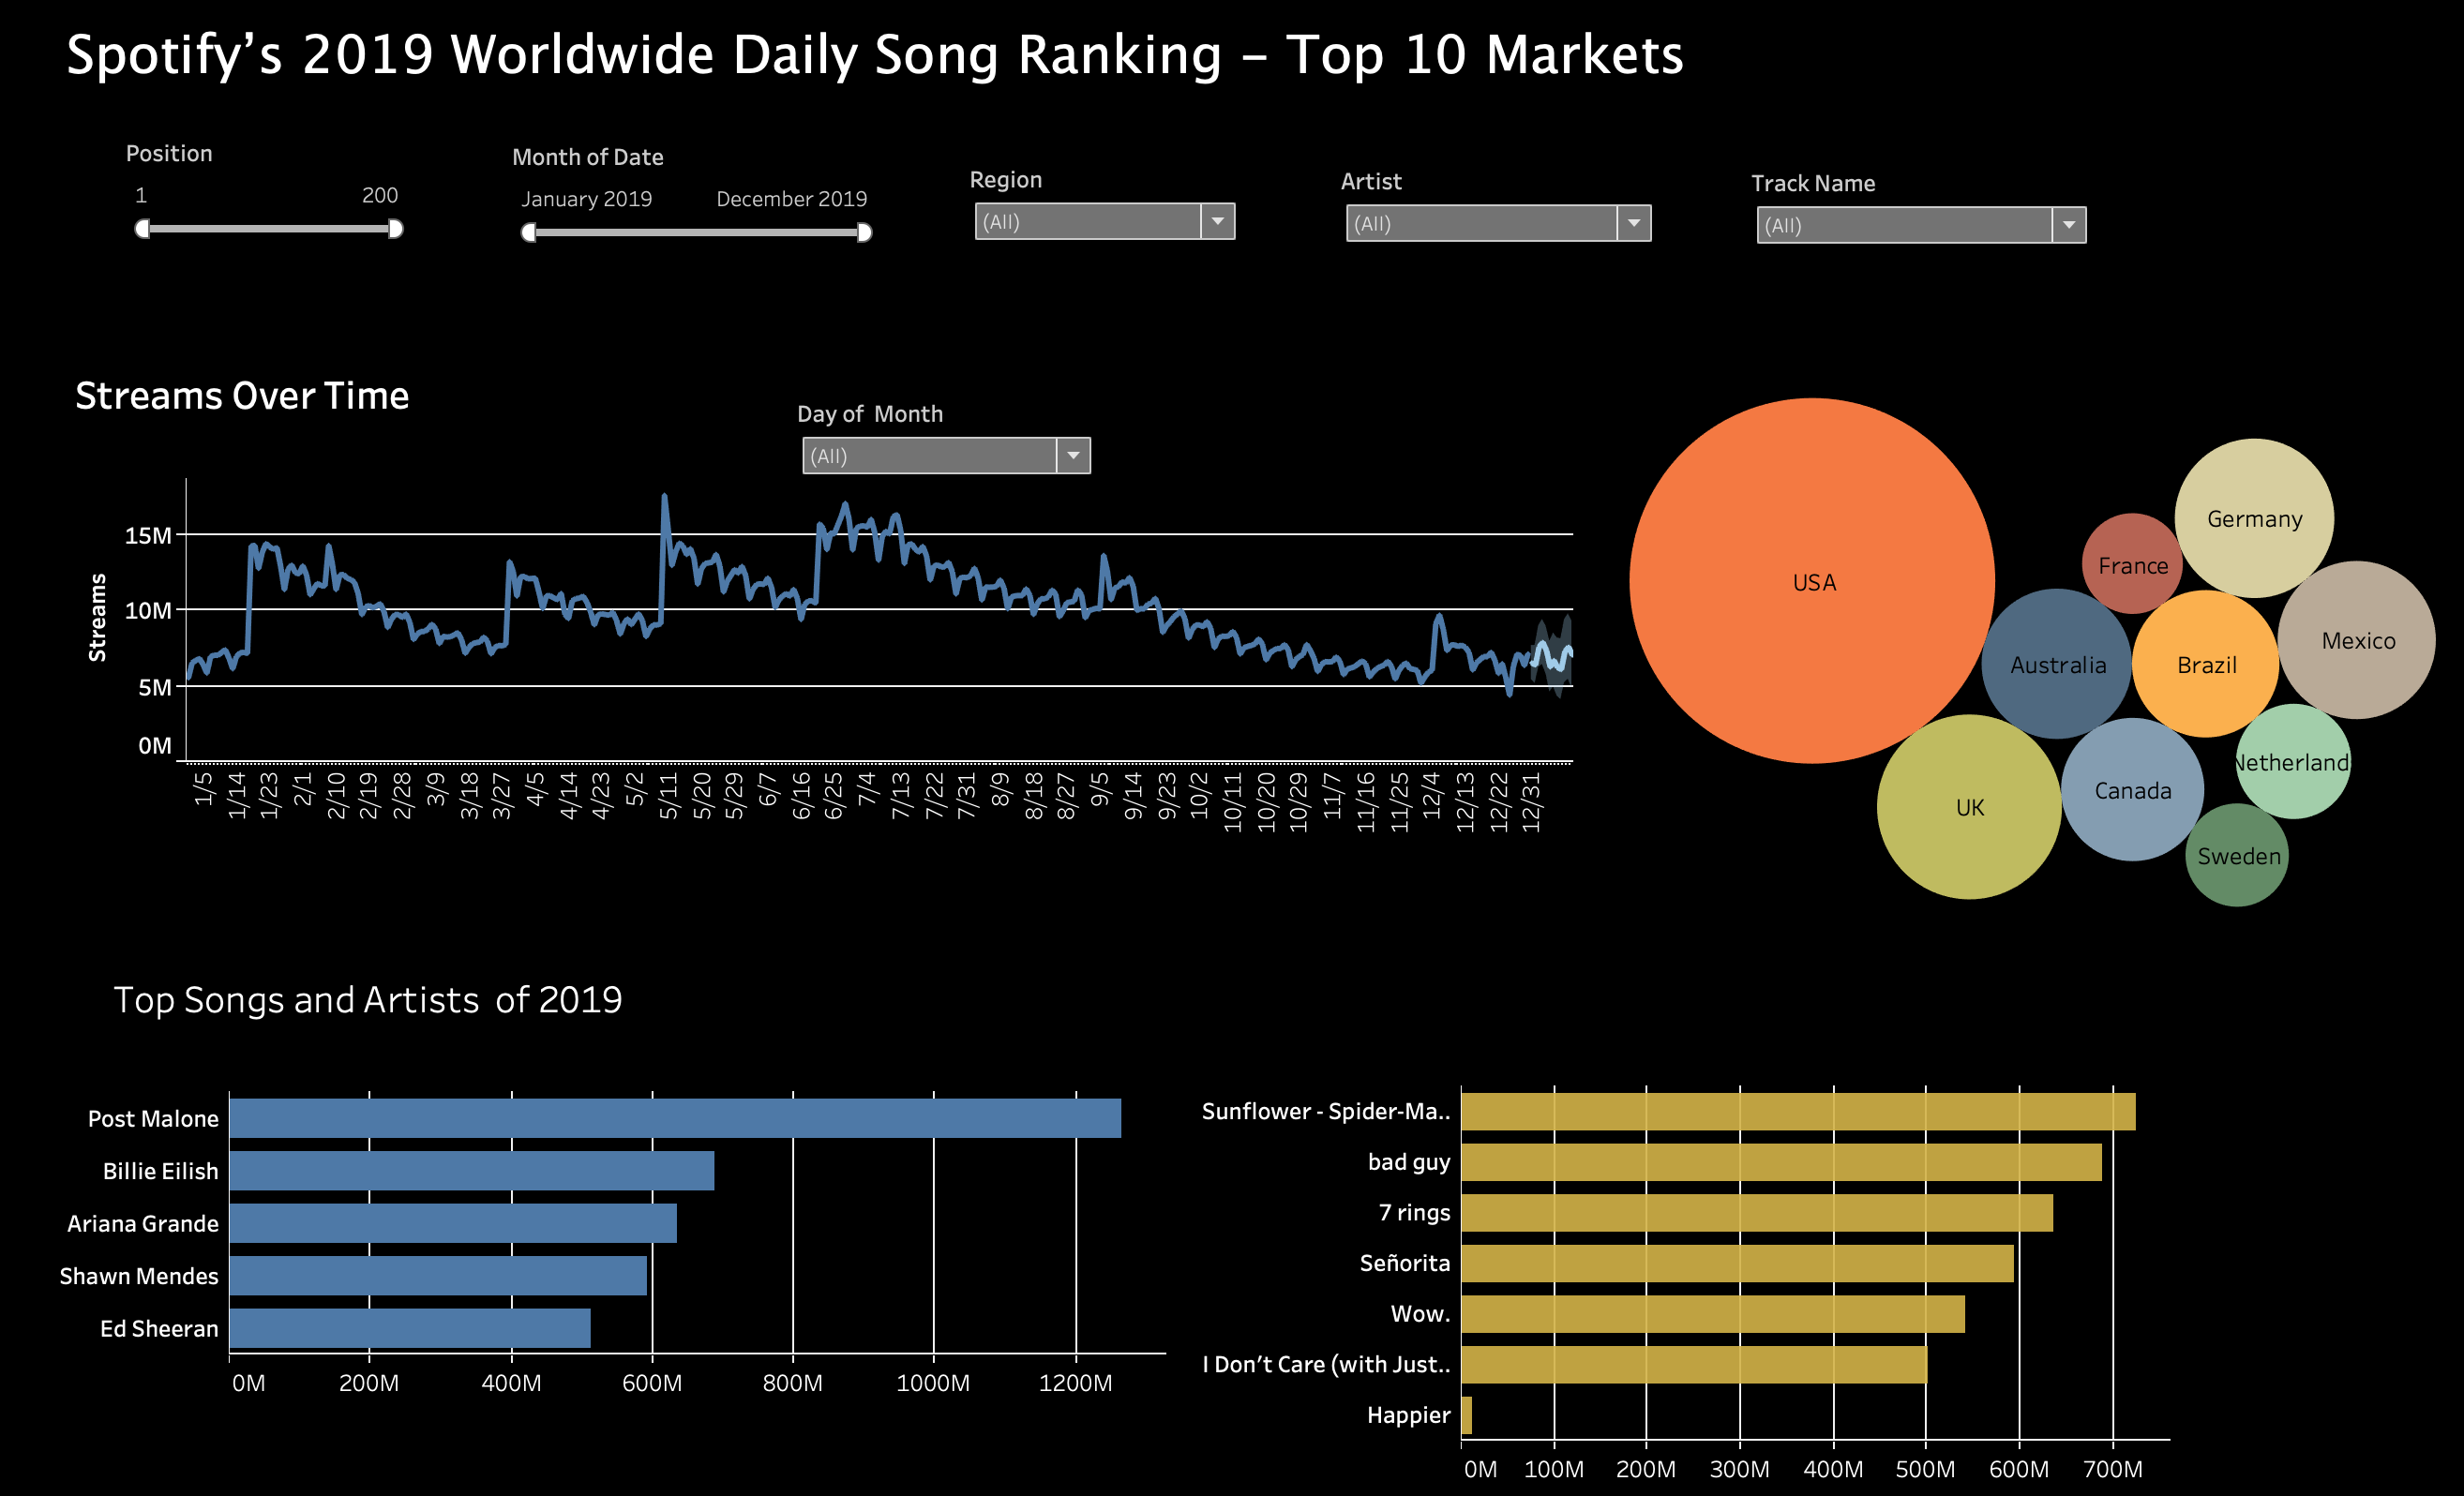

Layout of this report page (visuals, bound fields, positions):
{"tool":"tableau","page":{"name":"Dashboard 1 (2)","canvas":[1300,1600],"ordinal":1},"visuals":[{"type":"title","box":[8,8,1284,41]},{"type":"blank","box":[8,49,1284,1543]},{"type":"filter","title":"Songs ","param":"[federated.1a6lg4g165ijlx12t7h611j5lb3a].[tmn:date:qk]","box":[227,68,197,61]},{"type":"filter","title":"top 2019 songs ","param":"[federated.1a6lg4g165ijlx12t7h611j5lb3a].[none:Position:qk]","box":[37,69,153,61]},{"type":"filter","title":"Songs ","param":"[federated.1a6lg4g165ijlx12t7h611j5lb3a].[none:Track Name:nk]","box":[835,81,182,60]},{"type":"filter","title":"Songs (2)","param":"[federated.1a6lg4g165ijlx12t7h611j5lb3a].[none:region:nk]","box":[456,82,145,79]},{"type":"filter","title":"Songs (2)","param":"[federated.1a6lg4g165ijlx12t7h611j5lb3a].[none:Artist:nk]","box":[637,83,169,60]},{"type":"filter","title":"Avg streams ","param":"[federated.1a6lg4g165ijlx12t7h611j5lb3a].[tdy:date:ok]","box":[514,179,160,44]},{"type":"worksheet","title":"Avg streams ","mark":"Automatic","rows":["Streams"],"cols":["date"],"box":[10,185,1027,232]},{"type":"text","box":[51,439,238,30]},{"type":"worksheet","title":"top 2019 songs ","mark":"Bar","rows":["Track Name"],"cols":["Streams"],"box":[595,492,545,303]},{"type":"worksheet","title":"top 2019 Artists","mark":"Bar","rows":["Artist"],"cols":["Streams"],"box":[36,502,600,300]},{"type":"text","box":[23,697,795,56]},{"type":"worksheet","title":"Songs (2)","mark":"Automatic","rows":["Streams"],"cols":["Artist","region"],"box":[29,815,731,270]},{"type":"worksheet","title":"Songs ","mark":"Bar","rows":["Track Name"],"cols":["region"],"box":[46,1139,734,272]}]}

Visuals, with their boxes on the page's 1300x1600 design canvas (x1, y1, x2, y2). These are canvas units, not pixel positions in the 2464x1496 screenshot, which may show the page scaled, cropped or inside an application window:
title: box=[8, 8, 1292, 49]
blank: box=[8, 49, 1292, 1592]
"Songs " filter: box=[227, 68, 424, 129]
"top 2019 songs " filter: box=[37, 69, 190, 130]
"Songs " filter: box=[835, 81, 1017, 141]
"Songs (2)" filter: box=[456, 82, 601, 161]
"Songs (2)" filter: box=[637, 83, 806, 143]
"Avg streams " filter: box=[514, 179, 674, 223]
"Avg streams " worksheet: box=[10, 185, 1037, 417]
text: box=[51, 439, 289, 469]
"top 2019 songs " worksheet (Bar marks): box=[595, 492, 1140, 795]
"top 2019 Artists" worksheet (Bar marks): box=[36, 502, 636, 802]
text: box=[23, 697, 818, 753]
"Songs (2)" worksheet: box=[29, 815, 760, 1085]
"Songs " worksheet (Bar marks): box=[46, 1139, 780, 1411]
